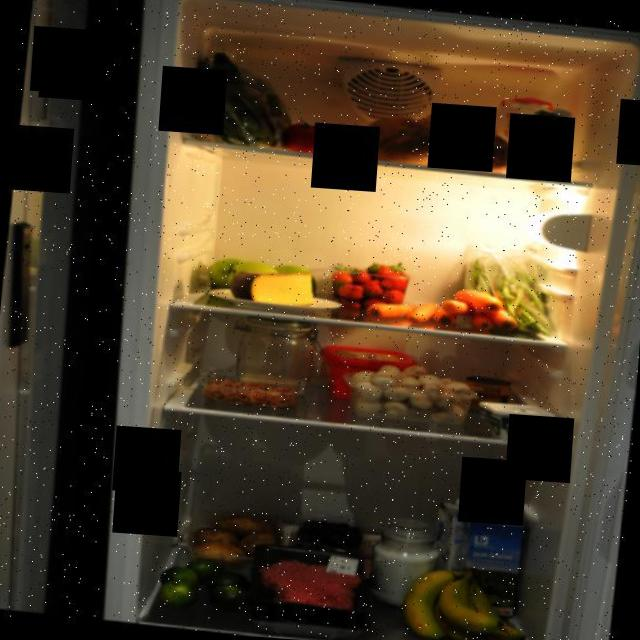Cebolla: (413, 110, 485, 146)
Champiñones: (340, 358, 480, 427)
Gambas/Langostinos: (197, 377, 308, 408)
Leche: (454, 507, 528, 623), (429, 492, 499, 599)
Mantequilla: (314, 338, 416, 406)
Manzana: (207, 252, 318, 298)
Patata: (186, 503, 284, 568)
Plátano: (397, 560, 537, 640)
Queso: (224, 262, 324, 310)
Tomate: (279, 118, 381, 162)
Zanahoria: (434, 285, 524, 335), (362, 296, 433, 326)
